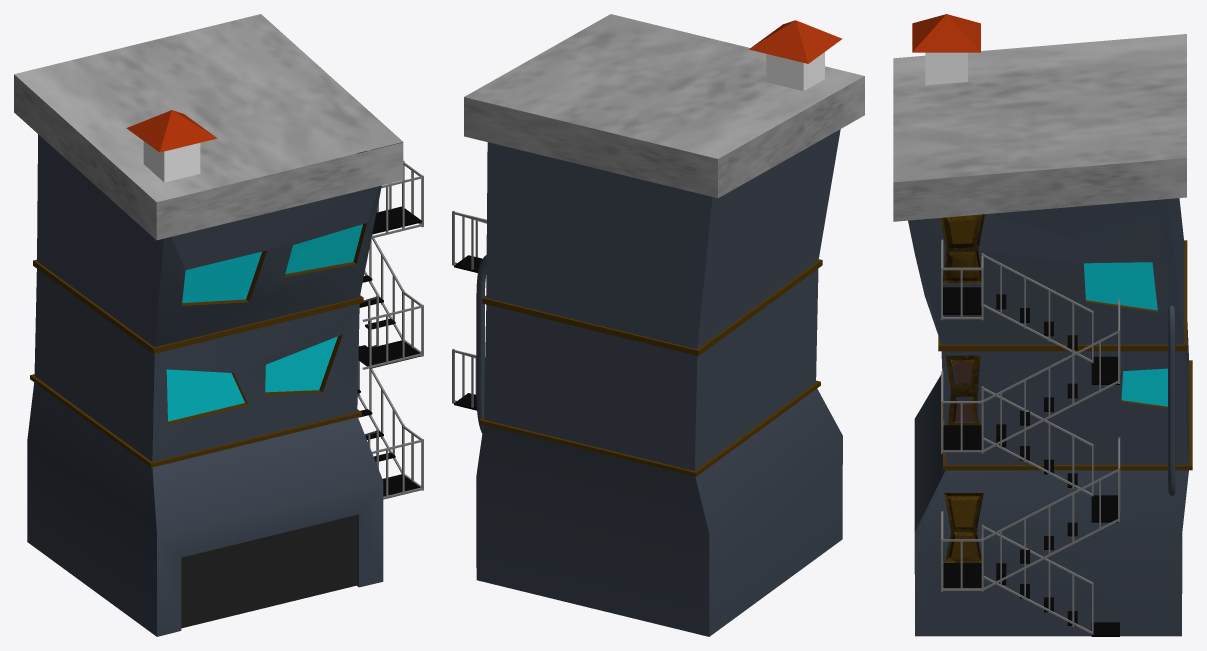
File: PredioTorto-CinzaEscuroLOD0.fbx
3 renders of one model, left to right at view 1: azimuth 30°, elevation 25°; view 2: azimuth 150°, elevation 25°; view 3: azimuth 270°, elevation 25°, orthographic. The views are drawn at different scales.
Visible parts, largest first — view 1: Predio3Andares; view 2: Predio3Andares; view 3: Predio3Andares.
Boxes of the visible parts, x1=… form: Predio3Andares: x1=14, y1=14, x2=423, y2=636; Predio3Andares: x1=452, y1=14, x2=864, y2=636; Predio3Andares: x1=893, y1=14, x2=1192, y2=636.
Size of the model in its own units: 1035 by 1727 by 895.
